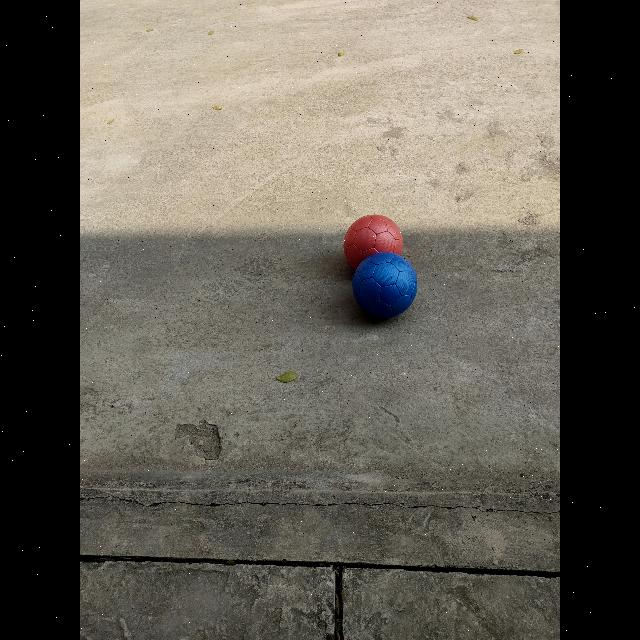B: (352, 252, 417, 318)
R: (343, 214, 403, 270)
